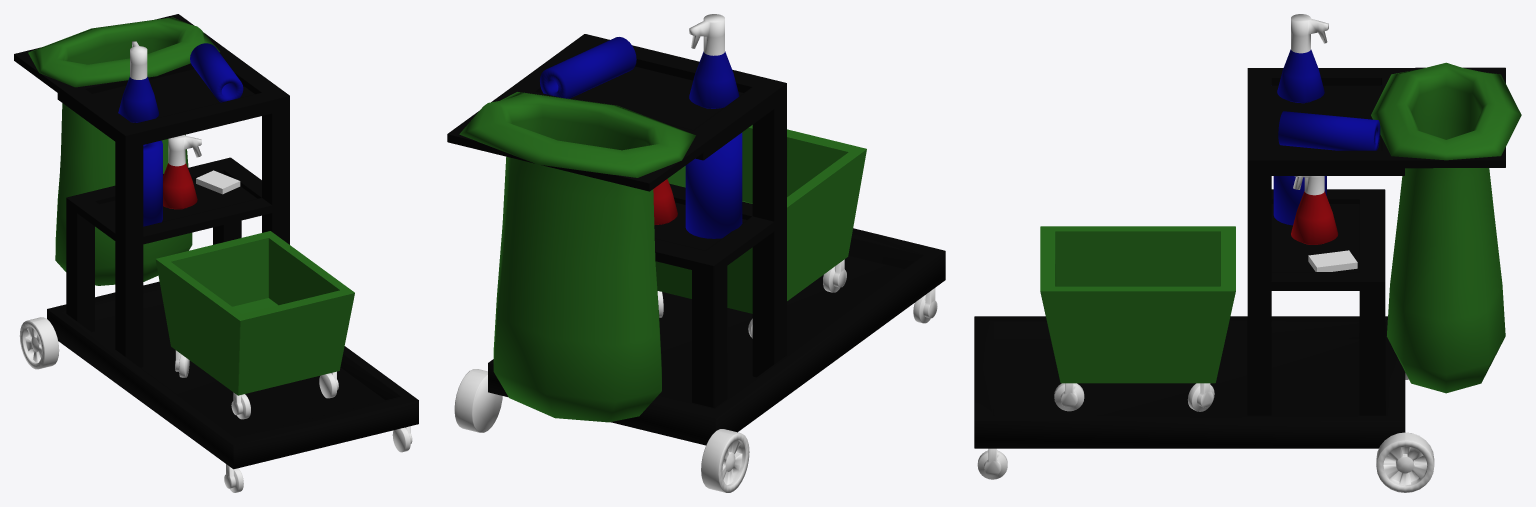
The model's file is MopCart.glb.
The picture shows the model from 3 angles, left to right: view 1: azimuth 30°, elevation 25°; view 2: azimuth 150°, elevation 25°; view 3: azimuth 270°, elevation 25°; orthographic projection. The views are drawn at different scales.
Parts seen in each view (by area): view 1: MopCart; view 2: MopCart; view 3: MopCart.
Part boxes in pixels (<box>): MopCart: <box>14,14,418,492</box>; MopCart: <box>447,14,945,492</box>; MopCart: <box>974,14,1521,492</box>.
Size of the model in its own units: 1.63 by 2.44 by 3.12.
